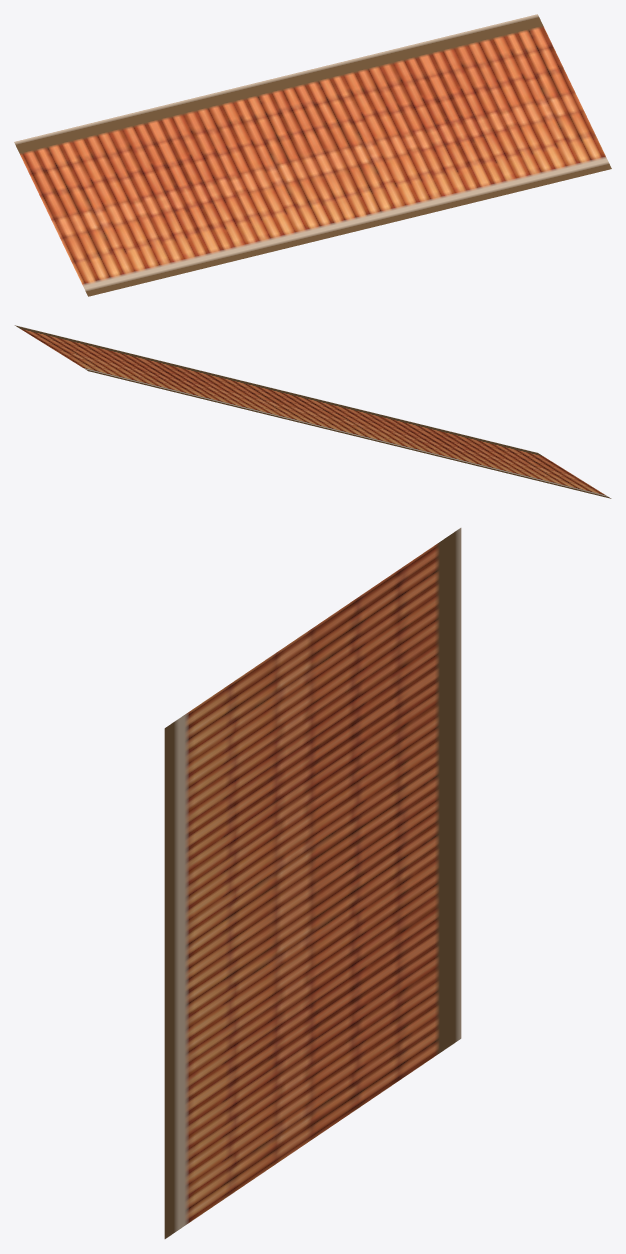
File: TrangTraiDuoi.glb
3 views of the same model, one above another, from view 1: azimuth 30°, elevation 25°; view 2: azimuth 150°, elevation 25°; view 3: azimuth 270°, elevation 25° (orthographic). The views are drawn at different scales.
Parts seen in each view (by area): view 1: Object_4.015; view 2: Object_4.015; view 3: Object_4.015.
Part boxes in pixels (<box>): Object_4.015: <box>14,14,611,296</box>; Object_4.015: <box>14,325,611,498</box>; Object_4.015: <box>164,528,461,1238</box>.
Bounding box in the file's own units: 0.6691 × 0.1227 × 0.1642.
1 material, 1 textured.
